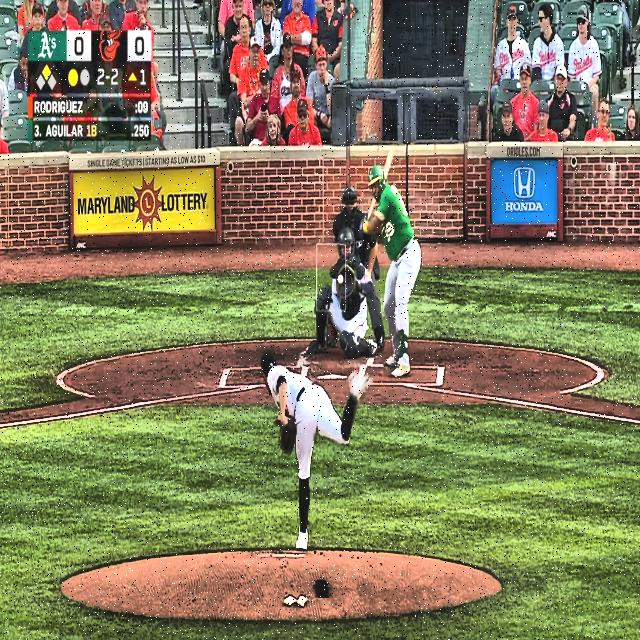baseball: (338, 274, 343, 285)
